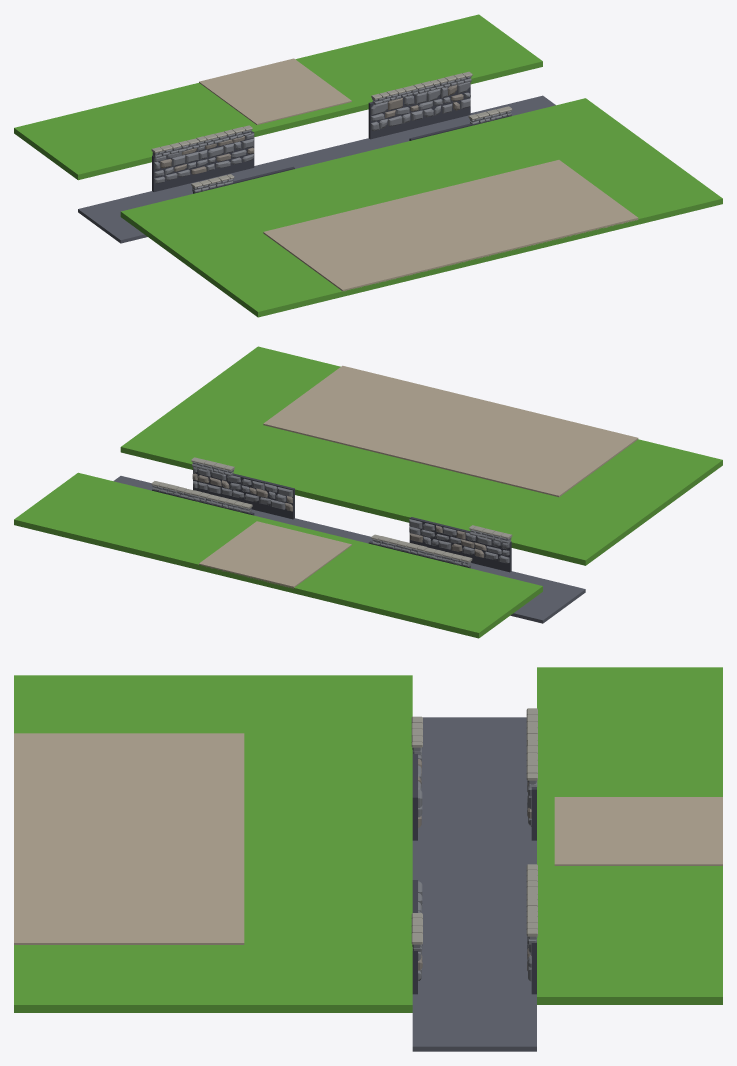
Rendered from VM_TRECHO_02_TERRAIN_ad9244.fbx.
3 views of the same model, one above another, from view 1: azimuth 30°, elevation 25°; view 2: azimuth 150°, elevation 25°; view 3: azimuth 270°, elevation 25° (orthographic). The views are drawn at different scales.
Parts seen in each view (by area): view 1: VM_Ter_TGround__Grass_VM, VM_Ter_TGround__Stone_Paving_VM, VM_Ter_TGround__Stone_VM_Dark, VM_Ter_TCanal__Stone_VM_Grey, VM_Ter_TCanal__Stone_VM_Mortar, VM_Ter_TCanal__Stone_VM_Trim, VM_Ter_TCanal__Stone_VM_Warm; view 2: VM_Ter_TGround__Grass_VM, VM_Ter_TGround__Stone_Paving_VM, VM_Ter_TCanal__Stone_VM_Grey, VM_Ter_TGround__Stone_VM_Dark, VM_Ter_TCanal__Stone_VM_Mortar, VM_Ter_TCanal__Stone_VM_Trim, VM_Ter_TCanal__Stone_VM_Warm; view 3: VM_Ter_TGround__Grass_VM, VM_Ter_TGround__Stone_Paving_VM, VM_Ter_TGround__Stone_VM_Dark, VM_Ter_TCanal__Stone_VM_Trim, VM_Ter_TCanal__Stone_VM_Mortar, VM_Ter_TCanal__Stone_VM_Grey.
Boxes of the visible parts, x1,y1,x2,y2 form: VM_Ter_TGround__Grass_VM: (14,14,722,317); VM_Ter_TGround__Stone_Paving_VM: (199,58,638,291); VM_Ter_TGround__Stone_VM_Dark: (78,95,555,243); VM_Ter_TCanal__Stone_VM_Grey: (152,76,511,192); VM_Ter_TCanal__Stone_VM_Mortar: (152,78,511,193); VM_Ter_TCanal__Stone_VM_Trim: (151,71,512,187); VM_Ter_TCanal__Stone_VM_Warm: (160,84,463,174); VM_Ter_TGround__Grass_VM: (14,346,722,638); VM_Ter_TGround__Stone_Paving_VM: (199,365,638,588); VM_Ter_TCanal__Stone_VM_Grey: (152,462,511,568); VM_Ter_TGround__Stone_VM_Dark: (113,476,585,623); VM_Ter_TCanal__Stone_VM_Mortar: (152,469,511,572); VM_Ter_TCanal__Stone_VM_Trim: (151,457,512,562); VM_Ter_TCanal__Stone_VM_Warm: (192,473,486,557); VM_Ter_TGround__Grass_VM: (14,667,722,1012); VM_Ter_TGround__Stone_Paving_VM: (14,733,722,944); VM_Ter_TGround__Stone_VM_Dark: (412,717,536,1051); VM_Ter_TCanal__Stone_VM_Trim: (411,708,537,944); VM_Ter_TCanal__Stone_VM_Mortar: (412,750,536,994); VM_Ter_TCanal__Stone_VM_Grey: (412,747,537,981).
Bounding box in the file's own units: 88 × 8.22 × 80.
